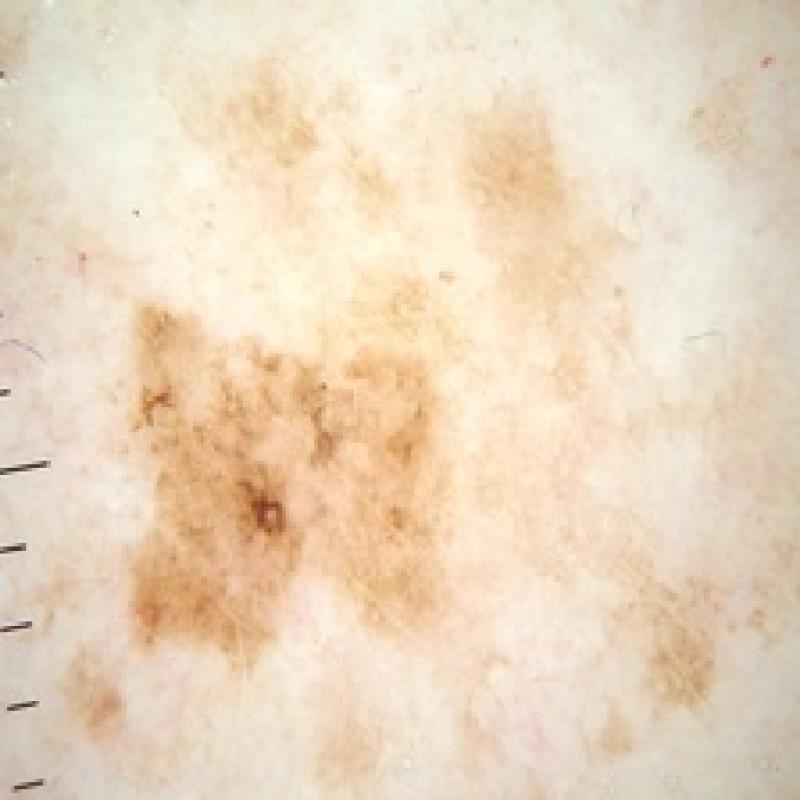malignant: (85, 258, 503, 696)
